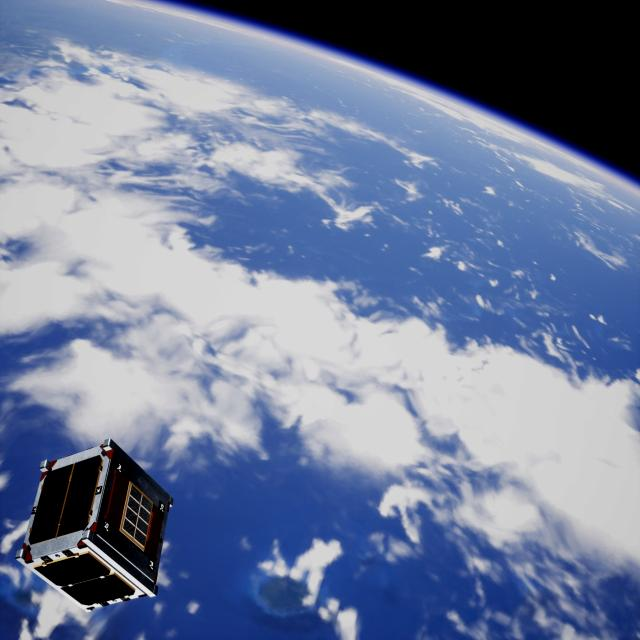medium_debris: (19, 434, 175, 608)
